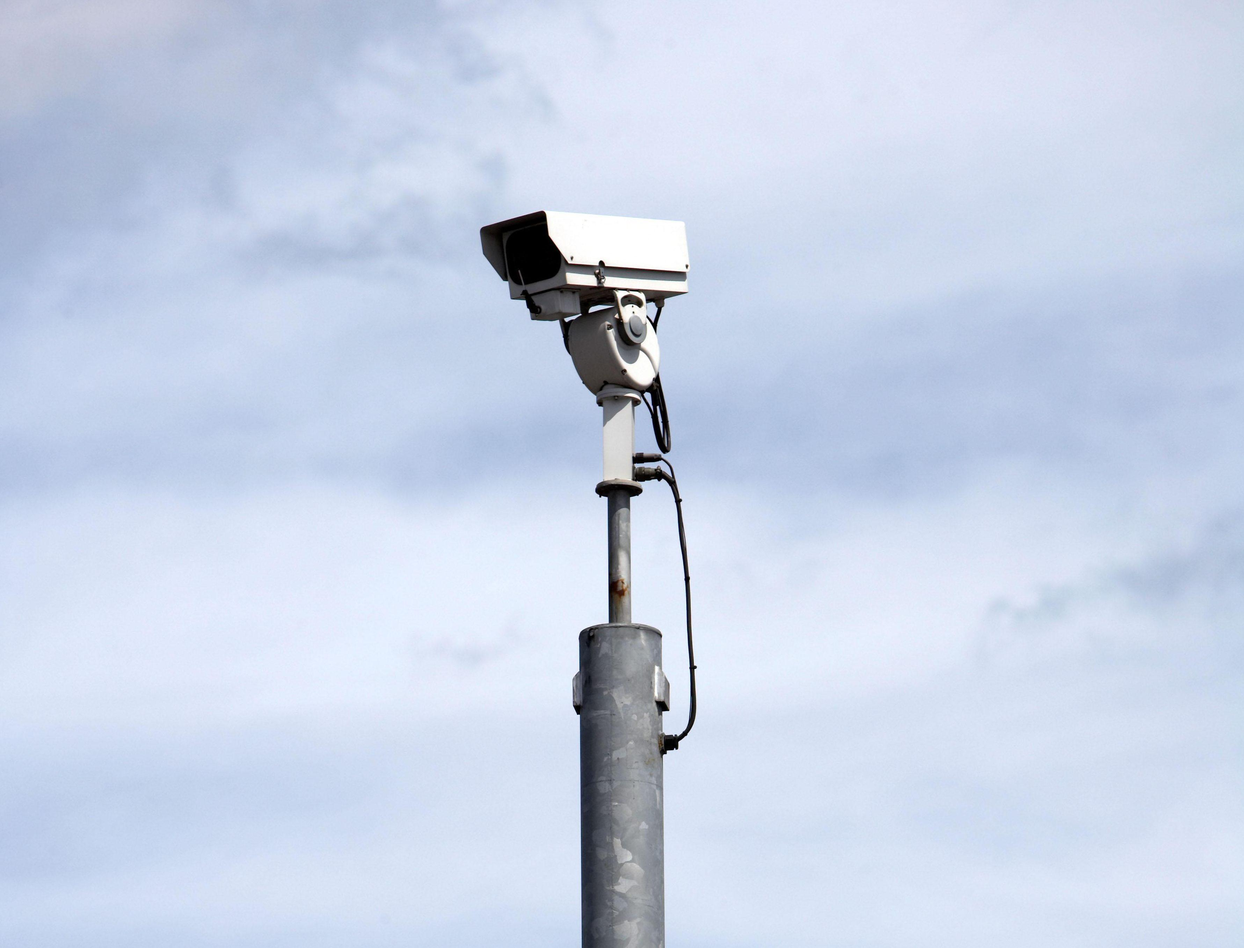Monitor: (478, 206, 691, 317)
